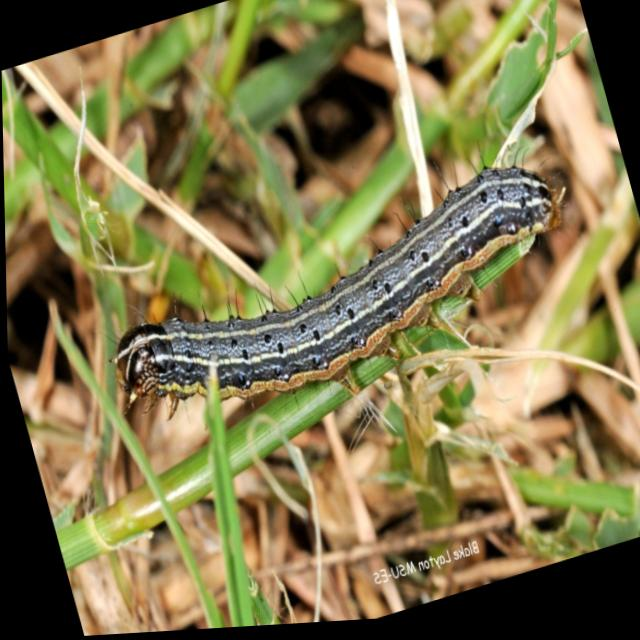Fall-Armyworm: (80, 138, 602, 440)
